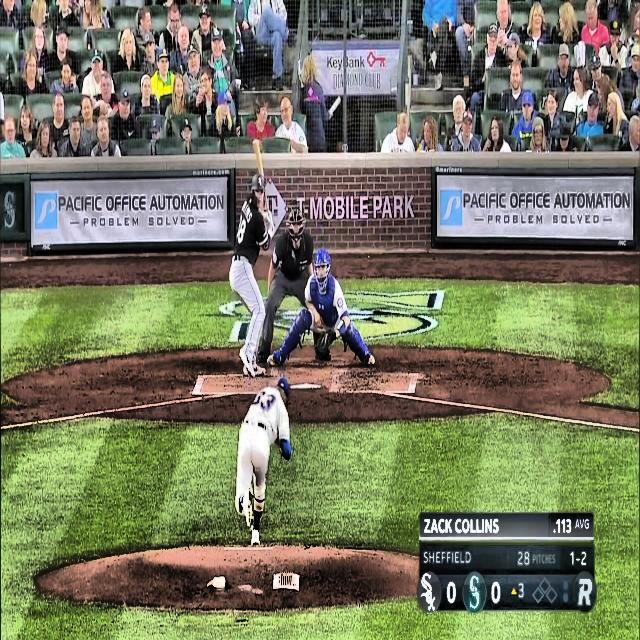baseball: (226, 302, 235, 316)
